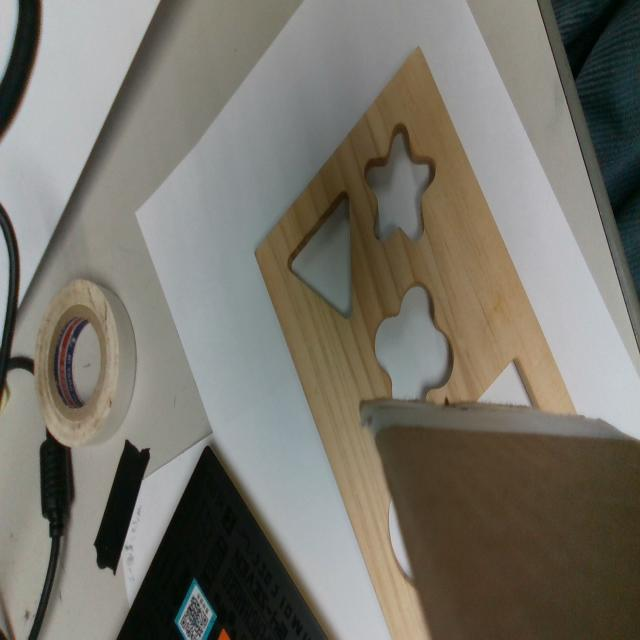circle: (387, 498, 410, 578)
flower: (374, 284, 456, 402)
square: (475, 356, 542, 409)
star: (364, 124, 436, 240)
triangle: (287, 187, 356, 321)
